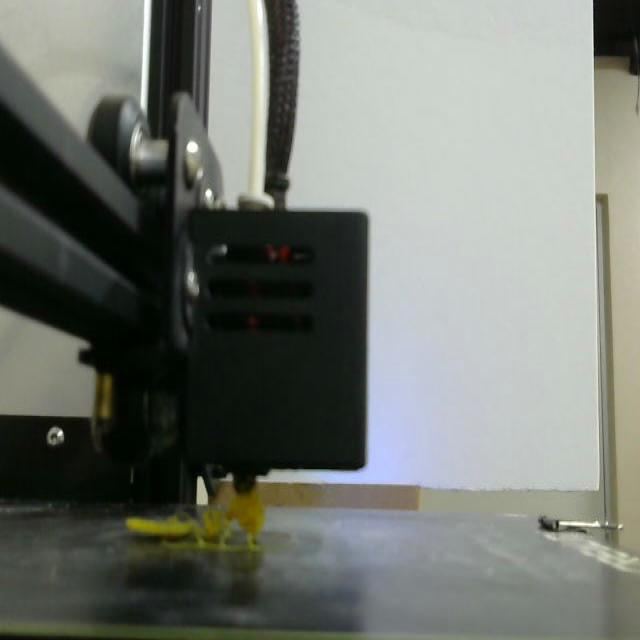spaghetti: (125, 487, 265, 548)
